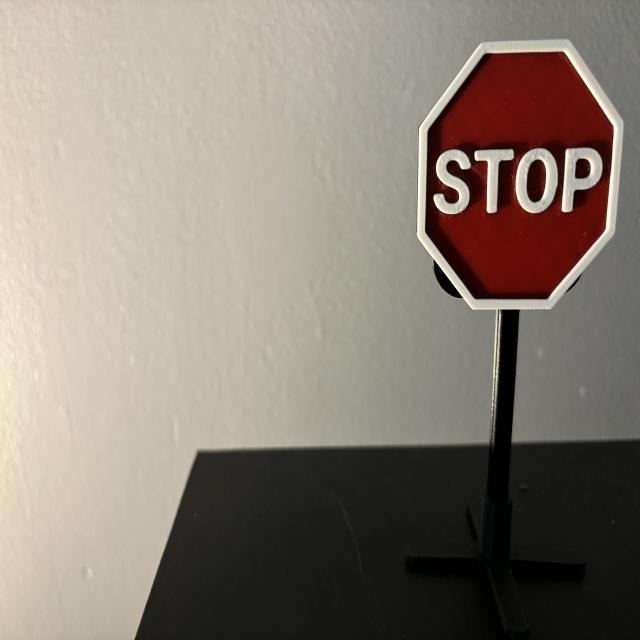sign_stop: (418, 41, 624, 312)
